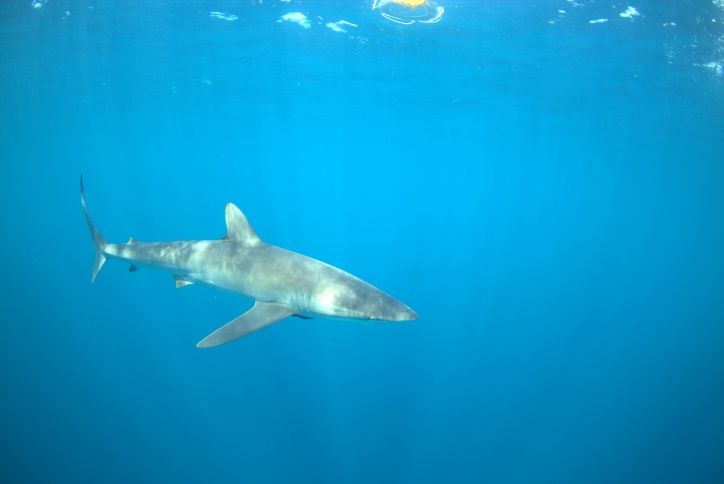Sedoso: (60, 166, 437, 357)
